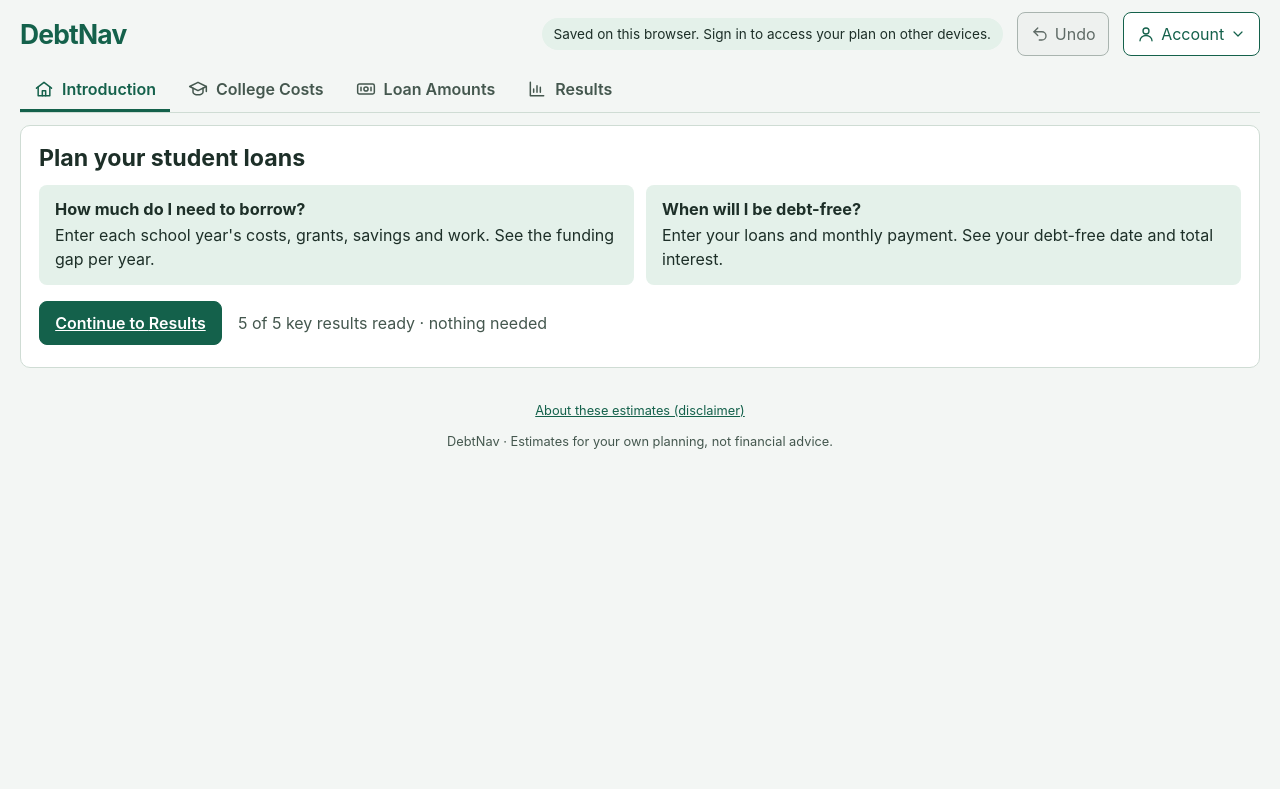
it: school timeline › shows a field error and keeps the text when graduation is before the start date
The image size is (1280, 789).
Click the link "College Costs" at (256,88), box [188, 78, 324, 98]
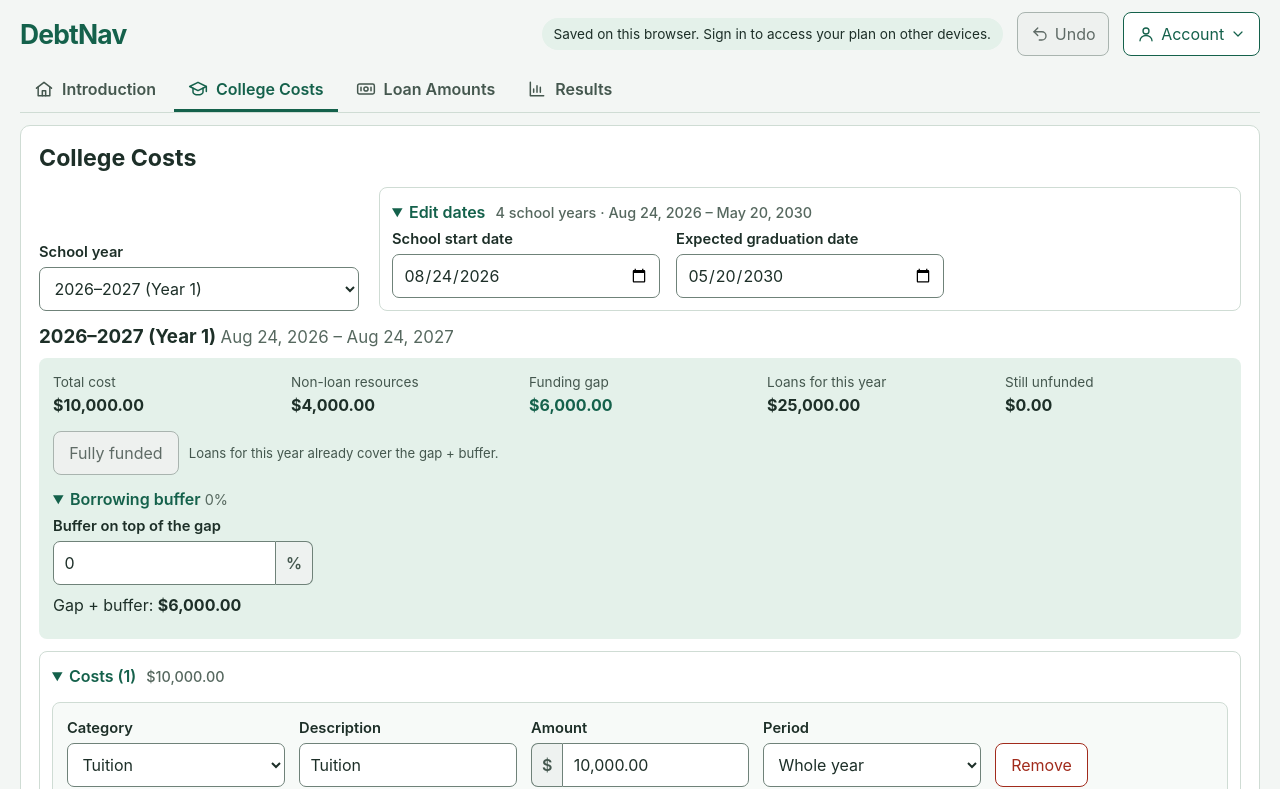
Type "2020-01-01" into the date field with id "settings" at (810,276), box [676, 254, 944, 298]
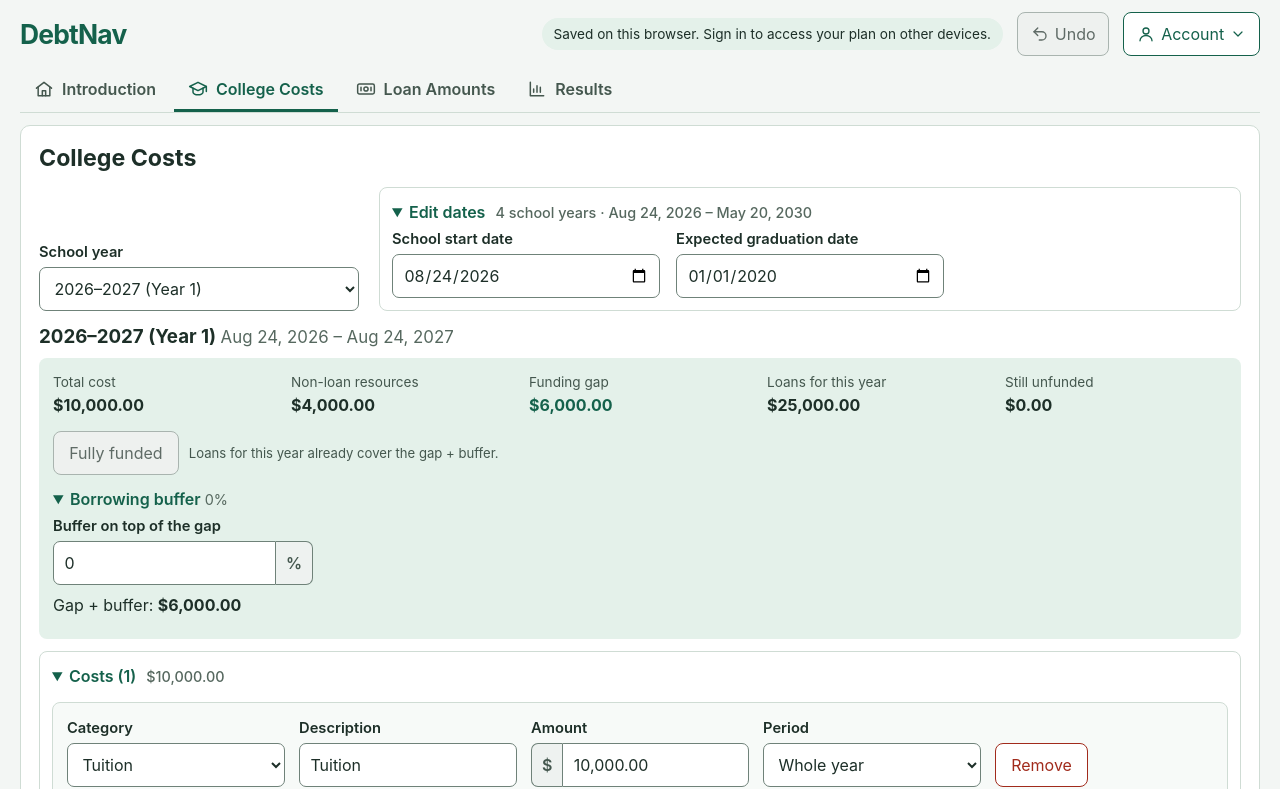
Leave the date field with id "settings", box [676, 254, 944, 298]
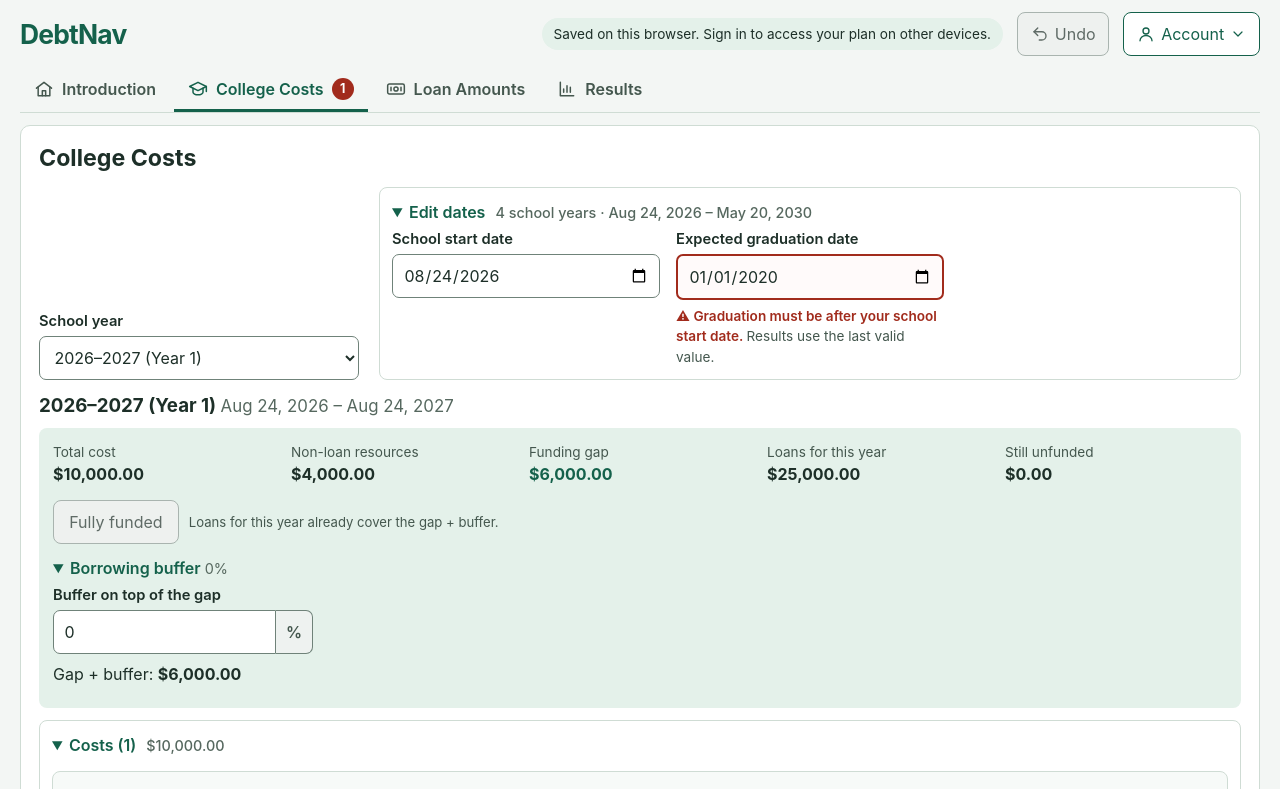
Result: the element with id "settings" shows "Graduation" at [676, 308, 937, 344]
